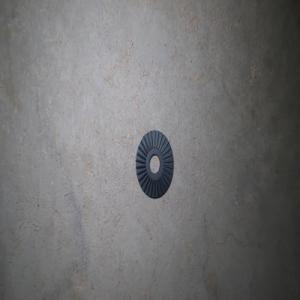Washer: (135, 130, 173, 198)
